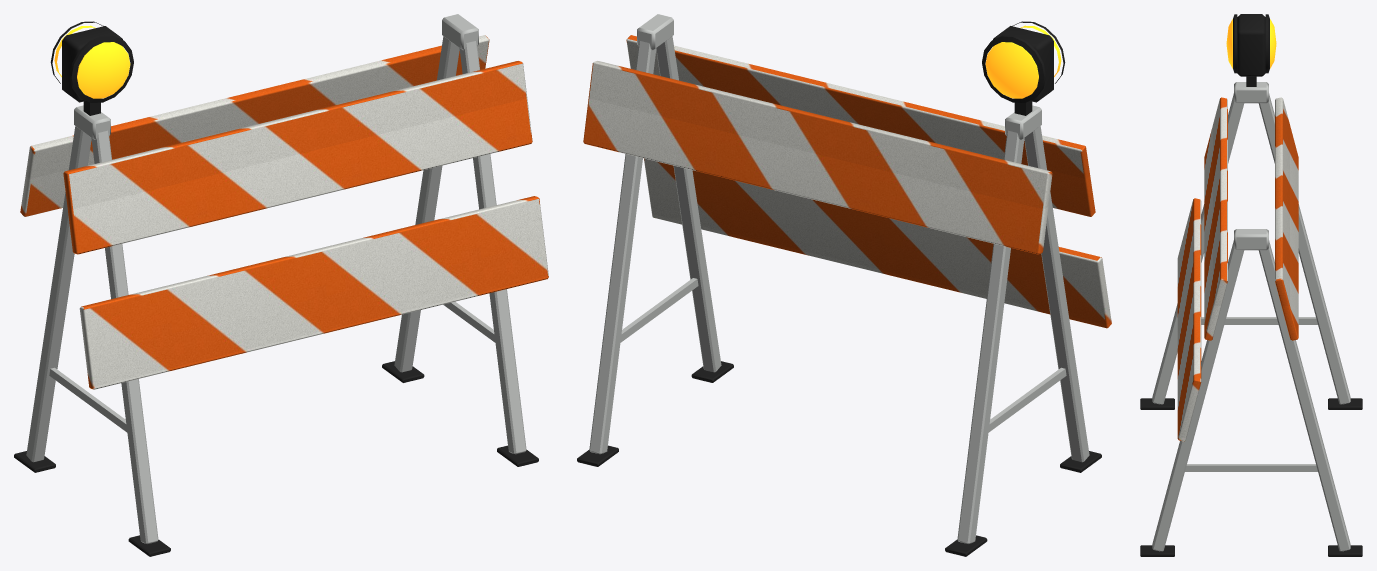
The model's file is barrier.glb.
The picture shows the model from 3 angles, left to right: view 1: azimuth 30°, elevation 25°; view 2: azimuth 150°, elevation 25°; view 3: azimuth 270°, elevation 25°; orthographic projection. The views are drawn at different scales.
Parts seen in each view (by area): view 1: barrier; view 2: barrier; view 3: barrier.
Part boxes in pixels (x1,y1,x2,y2): barrier: (14, 14, 548, 556); barrier: (577, 14, 1111, 556); barrier: (1140, 14, 1362, 556).
Size of the model in its own units: 1.24 by 1.24 by 0.64.
Materials: 4 (1 with a texture image).
